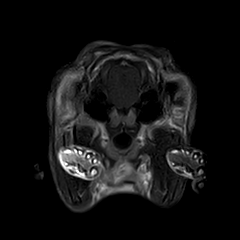Brain: (75, 29, 174, 127)
